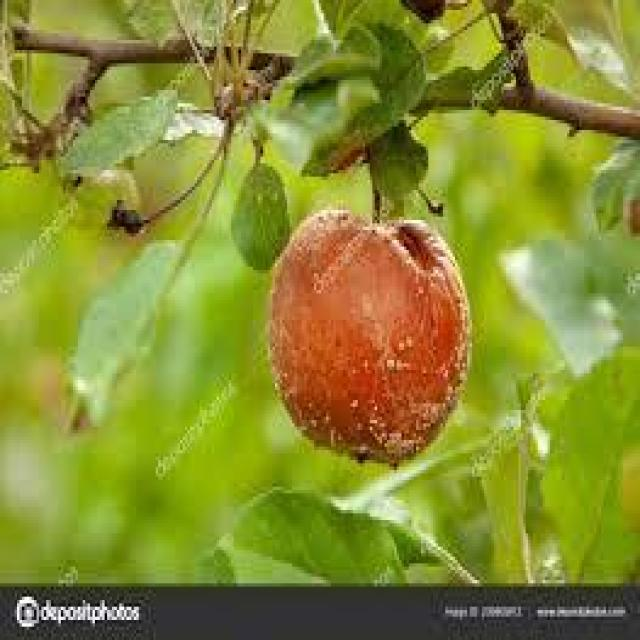maca: (265, 203, 470, 467)
